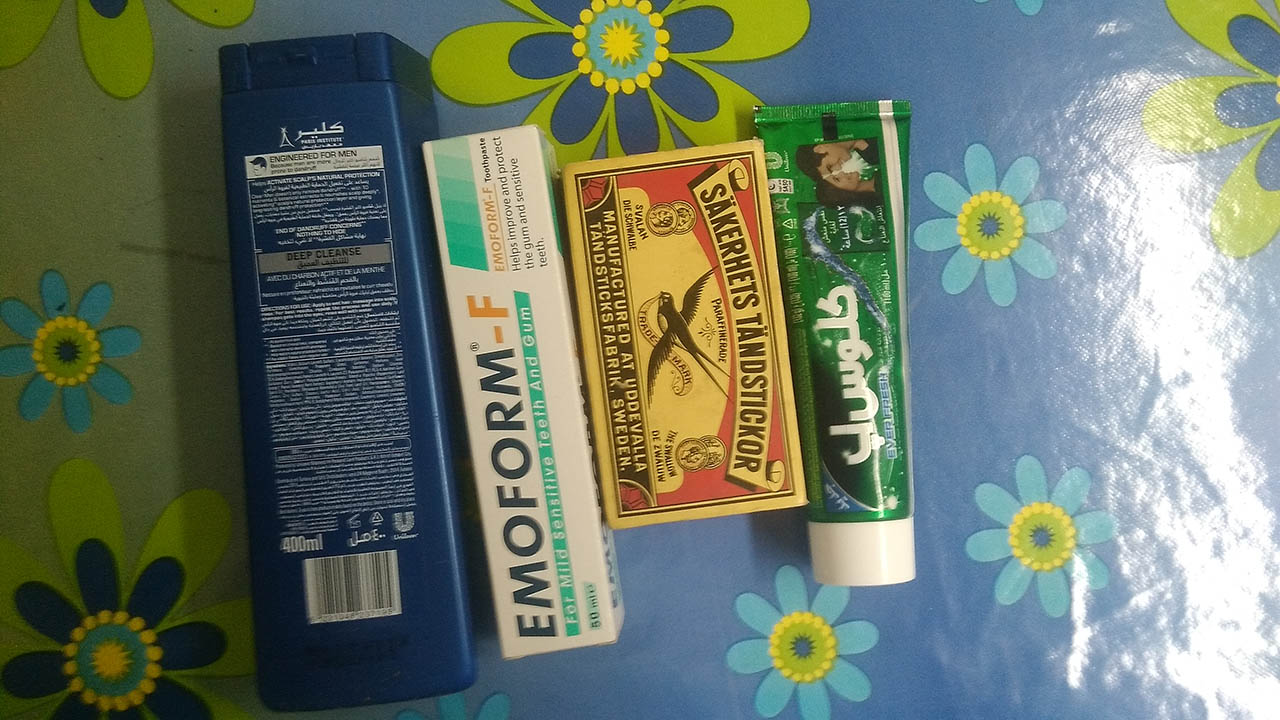Shampoo-Clear 4.7$: (209, 45, 468, 700)
Toothpaste-Closeup 3.04$: (756, 97, 921, 589)
Toothpaste-F 1.5$: (424, 130, 620, 665)
match-sticks .90$: (558, 151, 803, 510)
